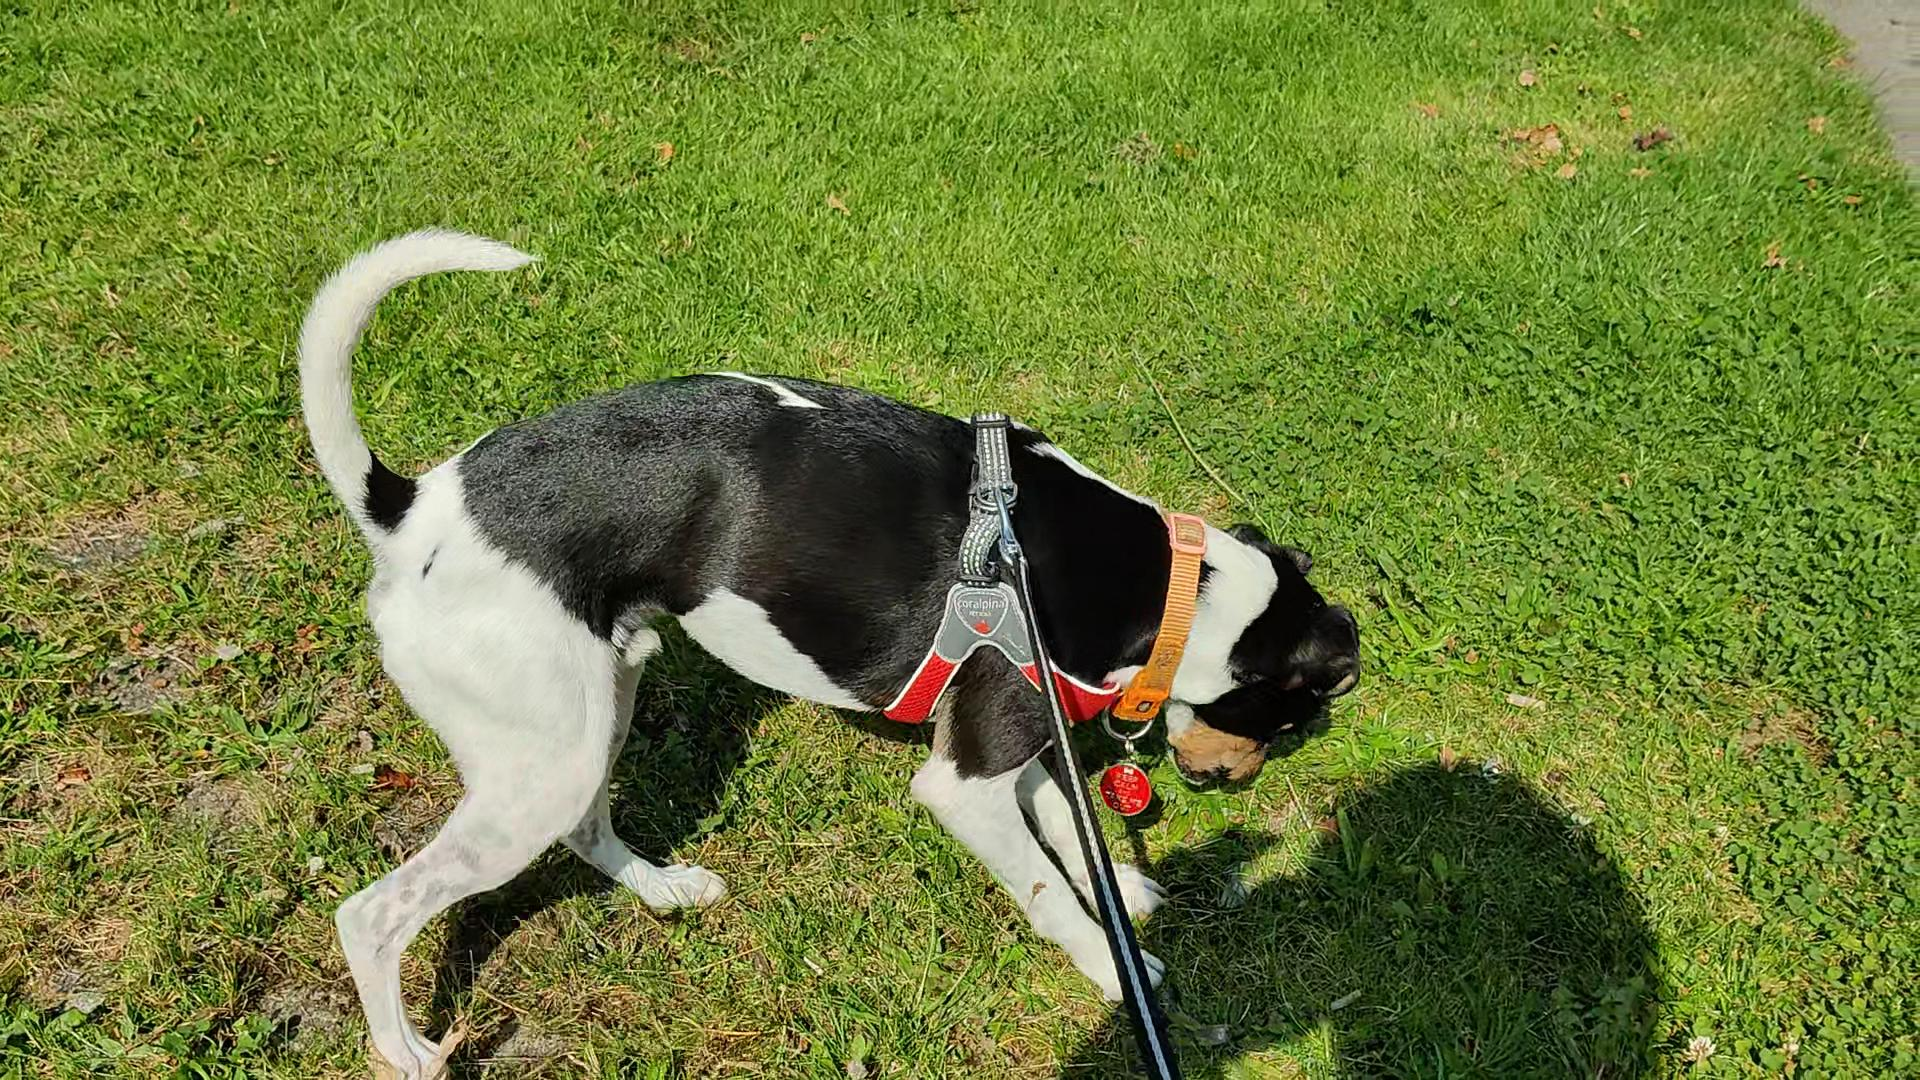Dog: (262, 200, 1369, 1079)
